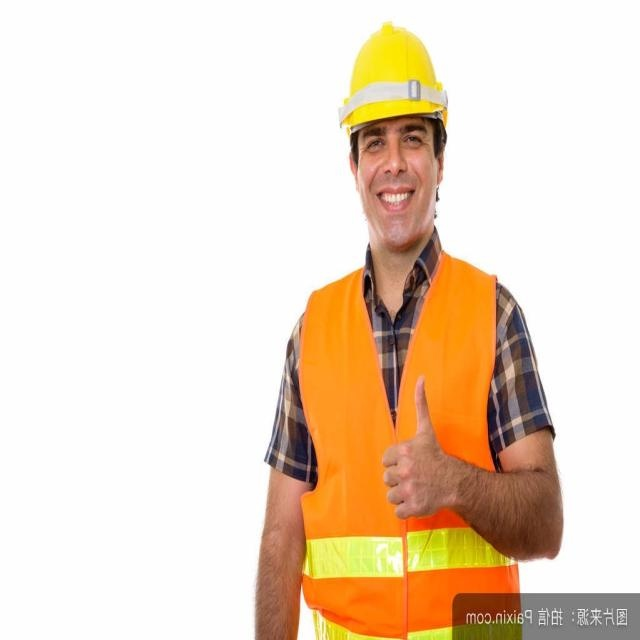Con_Casco: (336, 20, 450, 240)
Con_Chaleco: (301, 252, 519, 638)
